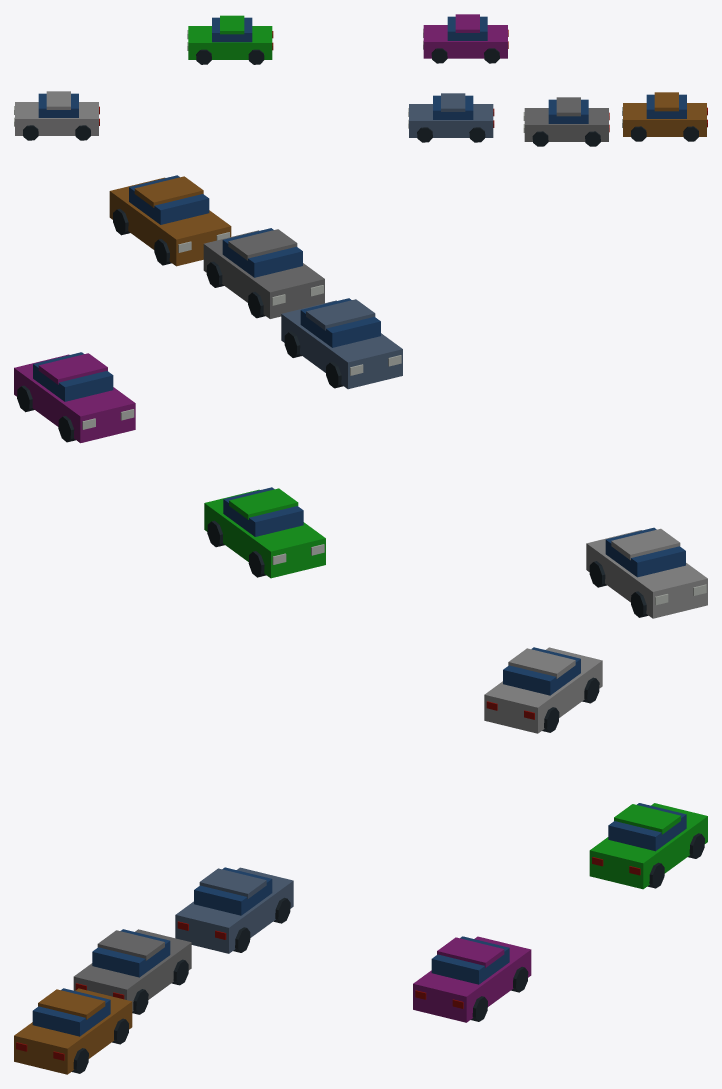
Rendered from cars_2b.glb.
3 renders of one model, top to bottom at view 1: azimuth 30°, elevation 25°; view 2: azimuth 150°, elevation 25°; view 3: azimuth 270°, elevation 25°, orthographic. The views are drawn at different scales.
Visible parts, largest first — view 1: cars_2b; view 2: cars_2b; view 3: cars_2b.
Boxes of the visible parts, <box> form: cars_2b: <box>14,14,707,146</box>; cars_2b: <box>14,175,707,618</box>; cars_2b: <box>14,647,707,1074</box>.
Size of the model in its own units: 52.88 by 3.04 by 38.64.
